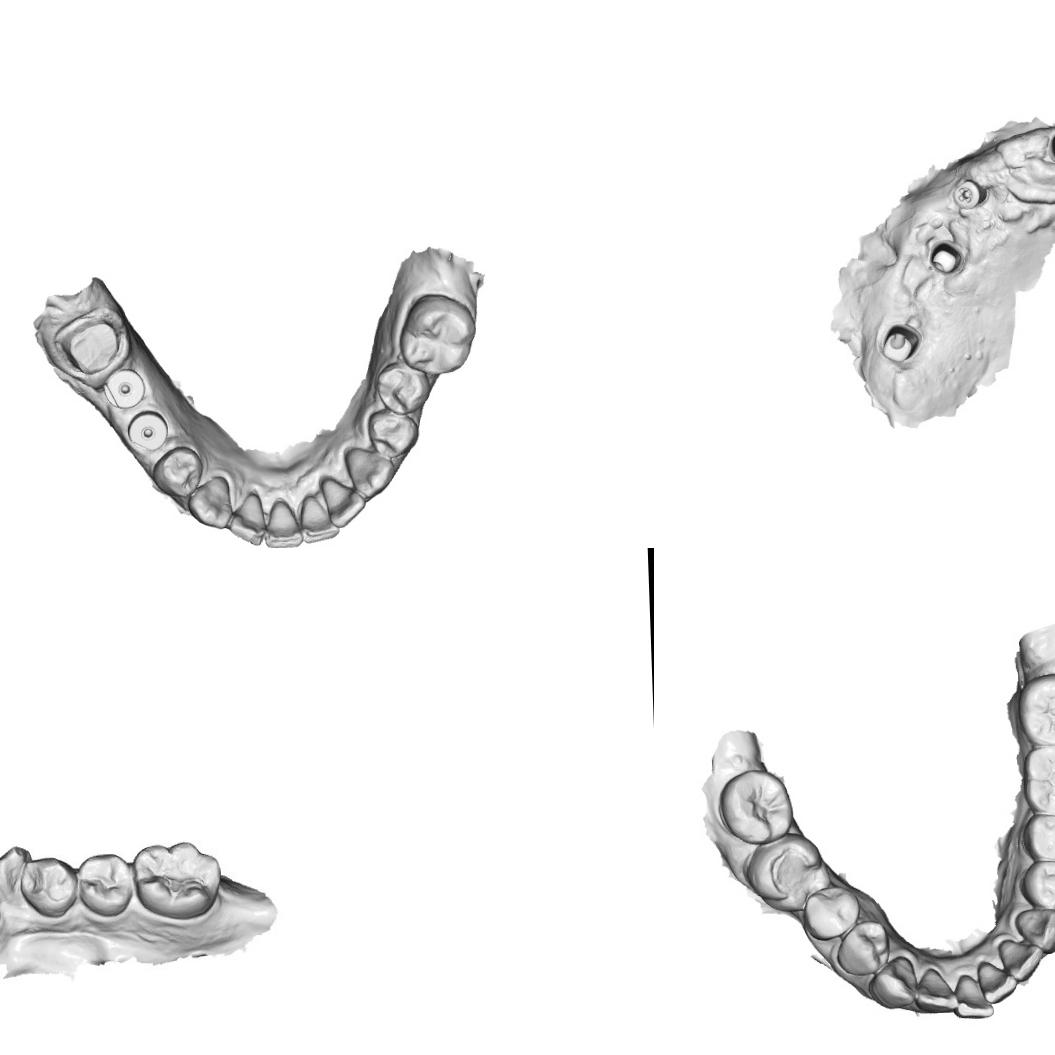abutment: (878, 322, 922, 364), (925, 240, 964, 276)
canine: (865, 954, 921, 1011), (342, 442, 397, 500), (185, 473, 234, 532), (1012, 906, 1055, 955), (0, 843, 30, 910)
crown: (52, 305, 130, 382)
implant: (102, 364, 148, 413), (124, 408, 170, 454)
implant_plus: (950, 178, 984, 212)
incisor: (317, 472, 369, 528), (224, 488, 268, 548), (911, 966, 961, 1015), (298, 492, 342, 546), (262, 495, 305, 548), (951, 972, 997, 1020), (996, 938, 1044, 984), (975, 956, 1020, 1004)
molar: (396, 290, 478, 378), (743, 831, 826, 915), (714, 766, 795, 846), (137, 842, 220, 920), (1014, 670, 1055, 748), (1020, 742, 1055, 817)
premolar: (799, 883, 862, 943), (80, 848, 134, 916), (833, 920, 892, 978), (374, 360, 433, 416), (149, 444, 206, 500), (20, 860, 76, 917), (365, 407, 420, 459), (1016, 859, 1055, 912), (1018, 810, 1055, 865)
